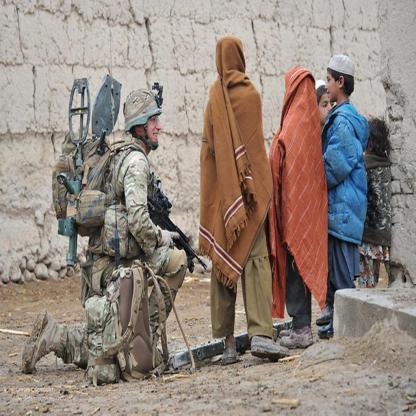face: (143, 109, 163, 147), (318, 92, 335, 125), (325, 71, 340, 103)
